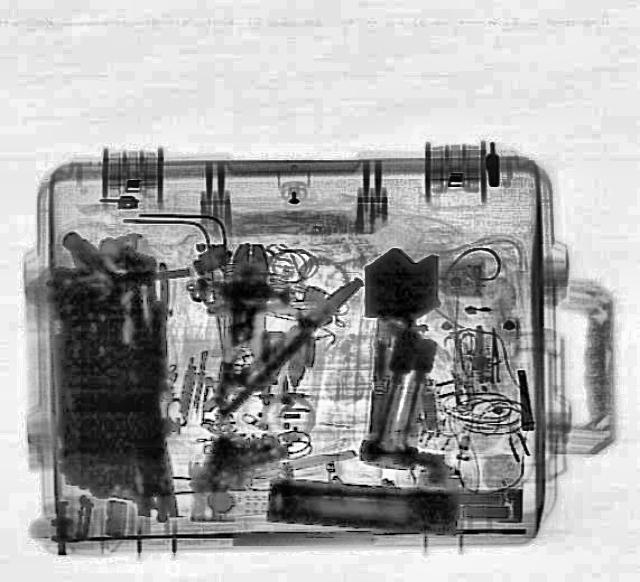Pliers: (195, 268, 368, 422), (214, 243, 270, 415)
